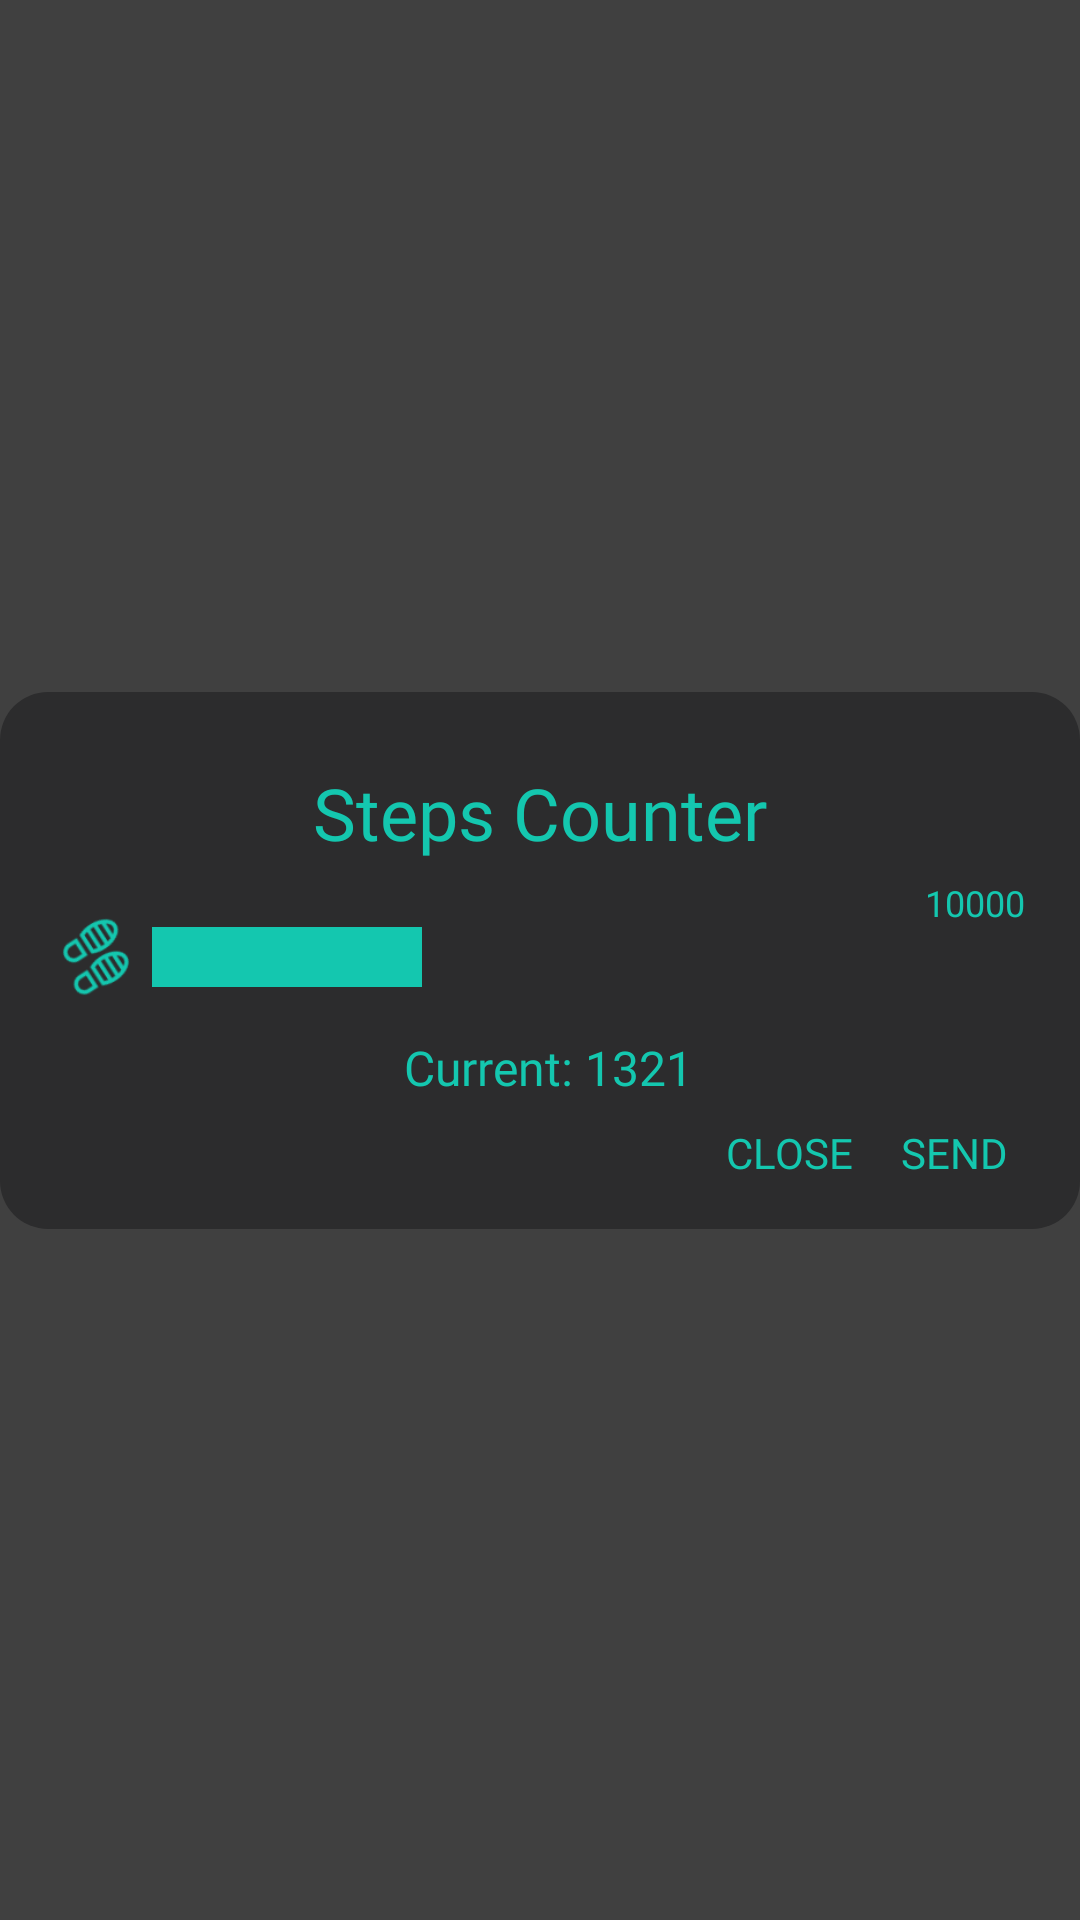

Where to tap for icons on this 1080 × 1920 app screen, as [x,y]:
steps: [96,957]
